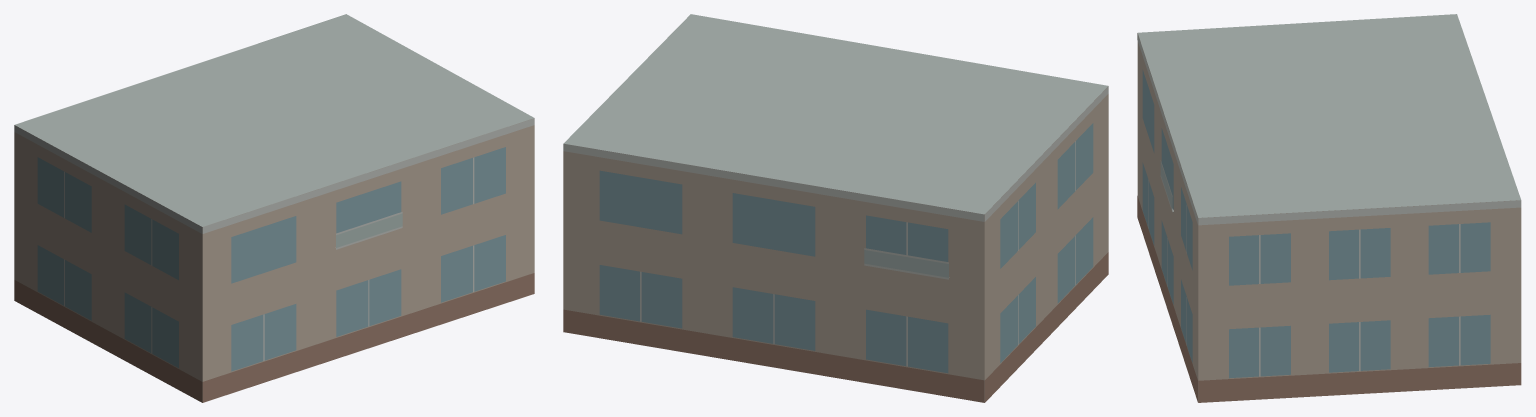
File: survey-upis-32868055.glb
3 views of the same model, side by side, from view 1: azimuth 30°, elevation 25°; view 2: azimuth 150°, elevation 25°; view 3: azimuth 270°, elevation 25° (orthographic). The views are drawn at different scales.
Parts seen in each view (by area): view 1: survey-upis-32868055.tmp; view 2: survey-upis-32868055.tmp; view 3: survey-upis-32868055.tmp.
Boxes of the visible parts, left/top/right/bottom form: survey-upis-32868055.tmp: left=14, top=14, right=534, bottom=402; survey-upis-32868055.tmp: left=563, top=14, right=1108, bottom=402; survey-upis-32868055.tmp: left=1137, top=14, right=1521, bottom=402.
Bounding box in the file's own units: 14.44 × 6.1 × 11.48.
